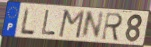8: (124, 13, 144, 43)
L: (20, 6, 36, 36), (40, 8, 57, 36)
M: (57, 9, 86, 41)
N: (79, 10, 105, 40)
R: (101, 11, 125, 42)
